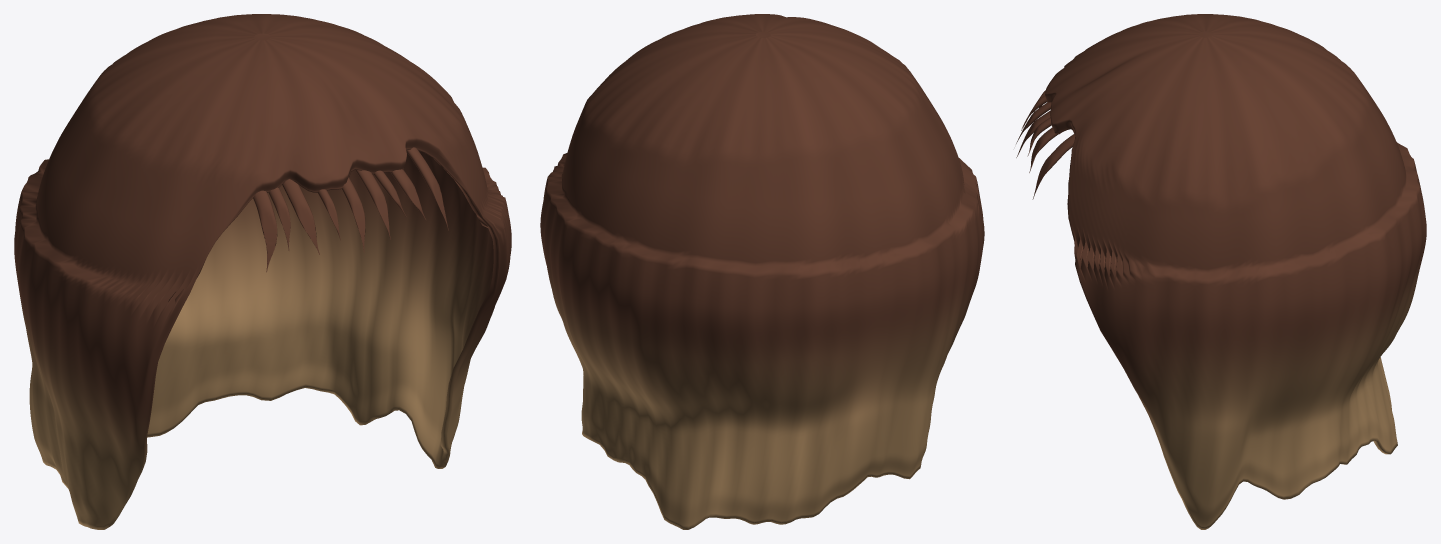
Rendered from side-sweep-beanie-ombre.glb.
The picture shows the model from 3 angles, left to right: view 1: azimuth 30°, elevation 25°; view 2: azimuth 150°, elevation 25°; view 3: azimuth 270°, elevation 25°; orthographic projection. The views are drawn at different scales.
Parts seen in each view (by area): view 1: Hair / layered lob, Fringe / tapered lock 01, Fringe / tapered lock 03, Fringe / tapered lock 09, Fringe / tapered lock 06, Fringe / tapered lock 05; view 2: Hair / layered lob; view 3: Hair / layered lob, Fringe / tapered lock 09.
Boxes of the visible parts, x1,y1,x2,y2 form: Hair / layered lob: (14,14,511,529); Fringe / tapered lock 01: (253,190,277,272); Fringe / tapered lock 03: (282,179,319,254); Fringe / tapered lock 09: (406,147,448,230); Fringe / tapered lock 06: (355,169,390,239); Fringe / tapered lock 05: (342,177,365,252); Hair / layered lob: (540,14,984,529); Hair / layered lob: (1045,14,1426,529); Fringe / tapered lock 09: (1032,134,1075,199).
Size of the model in its own units: 0.8388 by 0.8786 by 0.785.
